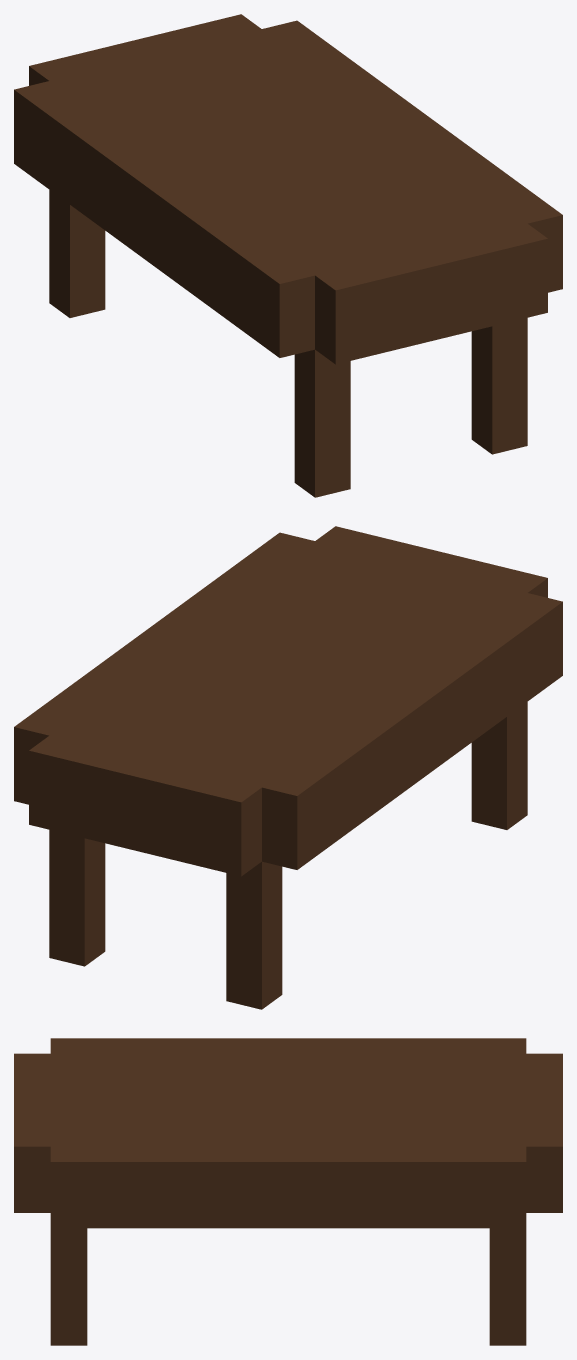
File: Banquinho Externo.obj
3 views of the same model, one above another, from view 1: azimuth 30°, elevation 25°; view 2: azimuth 150°, elevation 25°; view 3: azimuth 270°, elevation 25° (orthographic). The views are drawn at different scales.
Size of the model in its own units: 0.8 by 0.6 by 1.5.
Materials: 1 (1 with a texture image).
